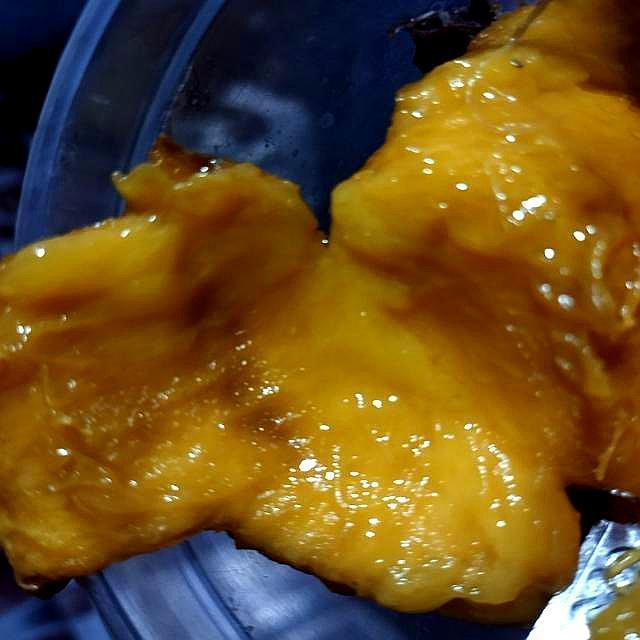Biodegradable: (1, 57, 640, 601)
